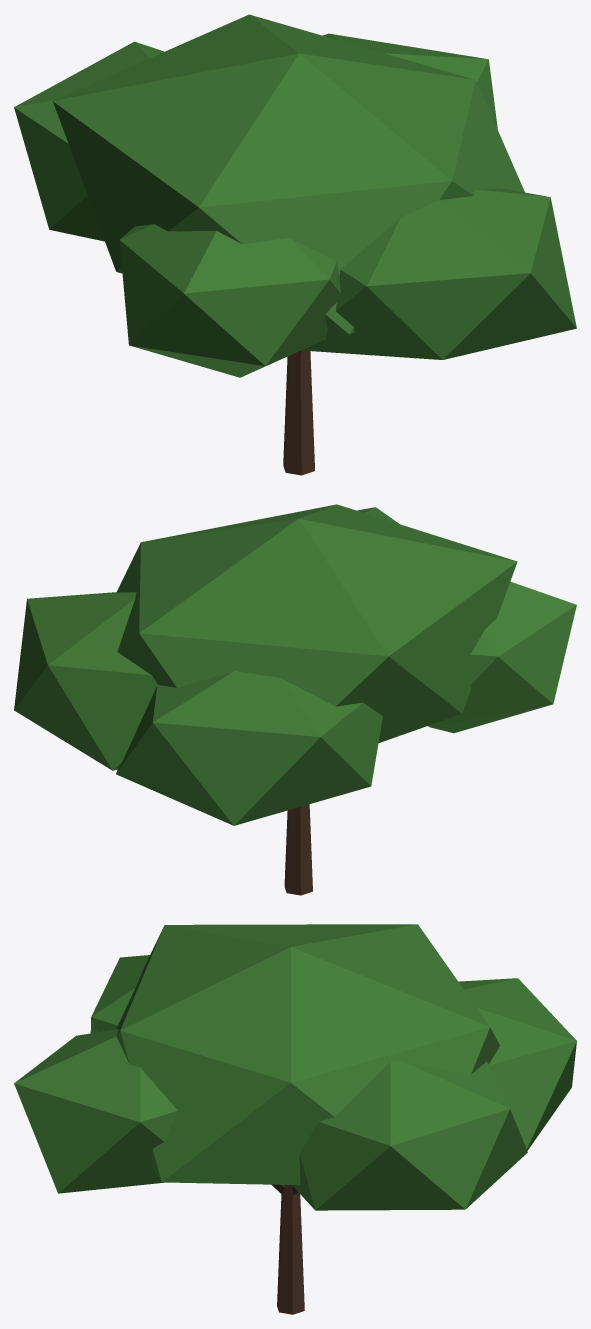
File: chene.glb
3 views of the same model, one above another, from view 1: azimuth 30°, elevation 25°; view 2: azimuth 150°, elevation 25°; view 3: azimuth 270°, elevation 25° (orthographic). The views are drawn at different scales.
Parts seen in each view (by area): view 1: chene; view 2: chene; view 3: chene.
Part boxes in pixels (left/top/right/bottom): chene: left=14, top=14, right=576, bottom=475; chene: left=14, top=504, right=576, bottom=895; chene: left=14, top=924, right=576, bottom=1314.
Size of the model in its own units: 14.33 by 11.97 by 16.88.
Materials: 1 (1 with a texture image).
